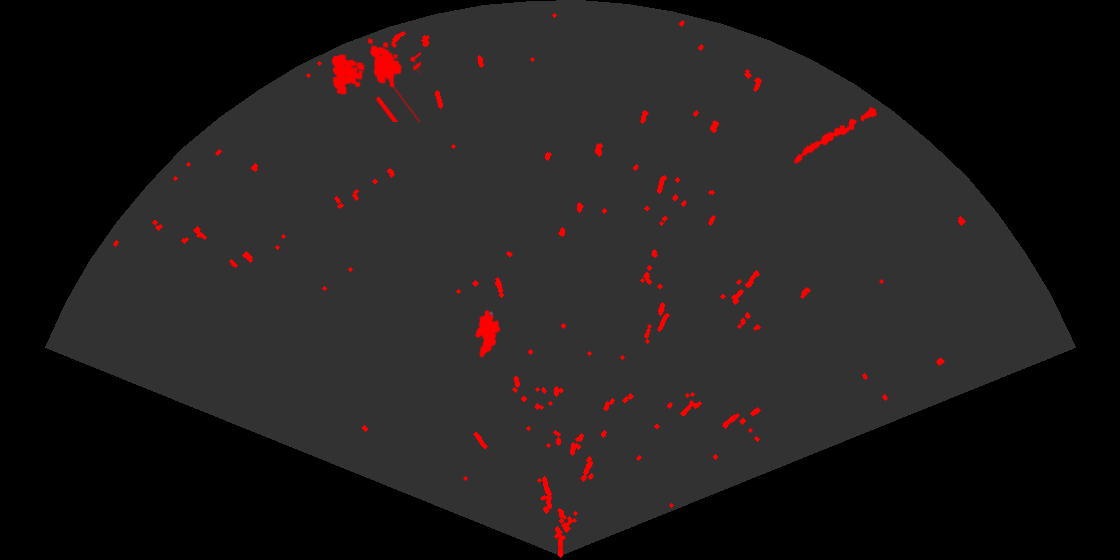AUV: (474, 308, 502, 359)
cage: (330, 36, 421, 122)
chain: (792, 106, 879, 165)
